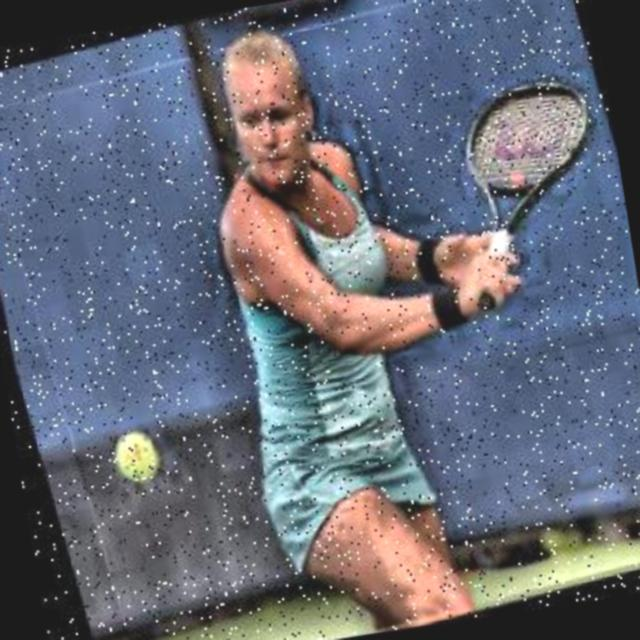tennis-ball: (105, 427, 163, 498)
